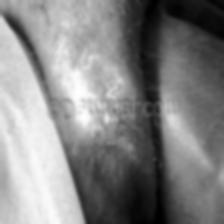Potentially Malignant Skin Tumors: (70, 42, 142, 96), (82, 119, 148, 163)
